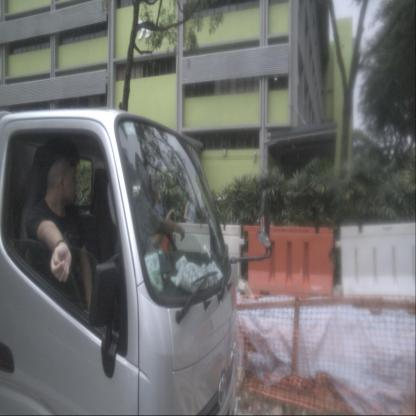human-pedestrian-adult: (25, 143, 118, 393), (132, 177, 185, 355), (184, 185, 198, 268), (153, 189, 166, 267)
movable_object-barrier: (243, 225, 334, 300), (335, 222, 415, 301), (172, 222, 245, 297)
vehicle-truck: (0, 109, 239, 415)
